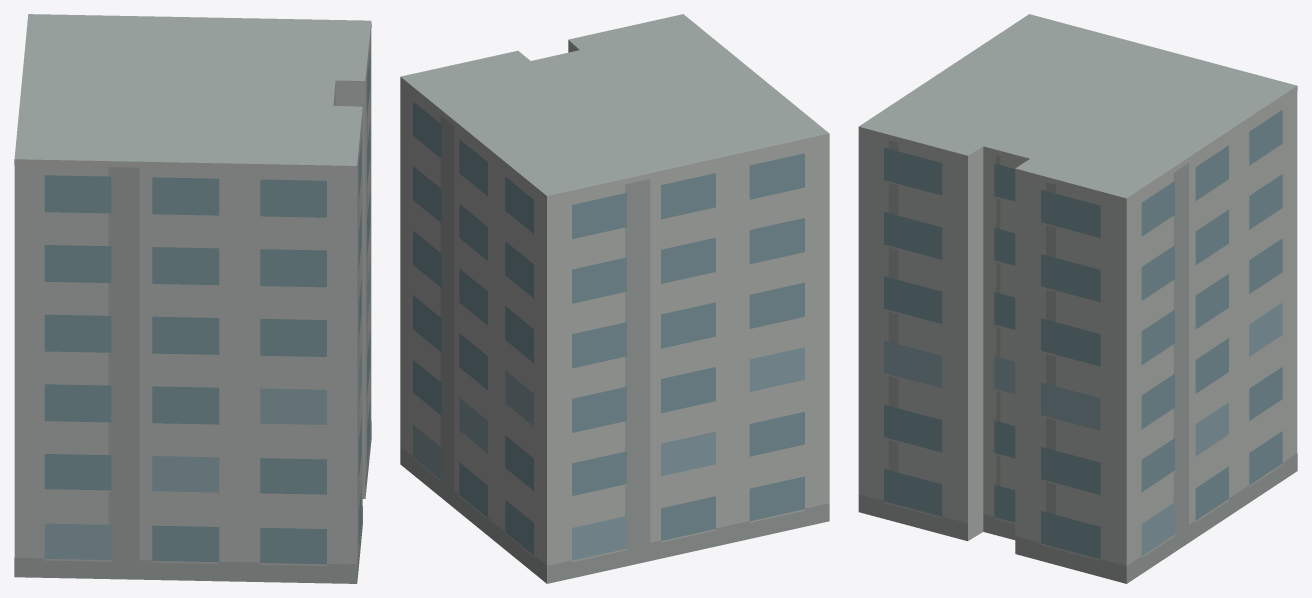
The model's file is survey-upis-32946833.glb.
The picture shows the model from 3 angles, left to right: view 1: azimuth 30°, elevation 25°; view 2: azimuth 150°, elevation 25°; view 3: azimuth 270°, elevation 25°; orthographic projection. The views are drawn at different scales.
Visible parts, largest first — view 1: survey-upis-32946833.tmp; view 2: survey-upis-32946833.tmp; view 3: survey-upis-32946833.tmp.
Part boxes in pixels (bbox=[...]): survey-upis-32946833.tmp: bbox=[14, 14, 371, 583]; survey-upis-32946833.tmp: bbox=[400, 14, 829, 583]; survey-upis-32946833.tmp: bbox=[858, 14, 1297, 583].
Size of the model in its own units: 17.25 by 16.8 by 17.34.
